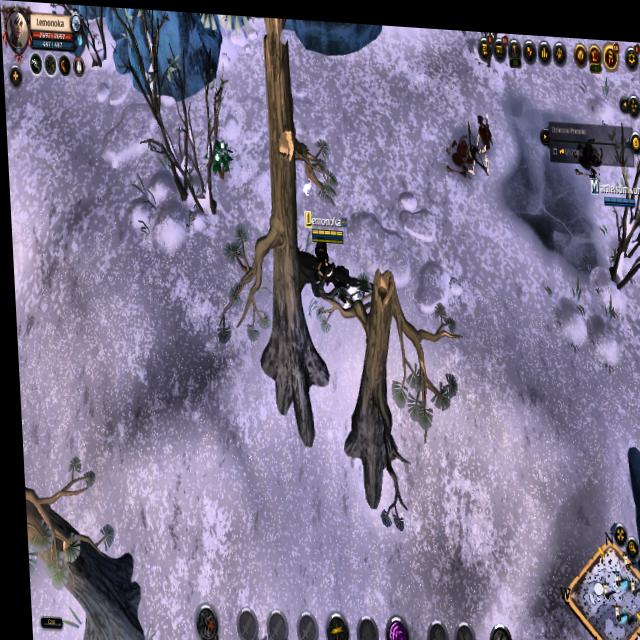fiber tier 3: (205, 133, 233, 179)
